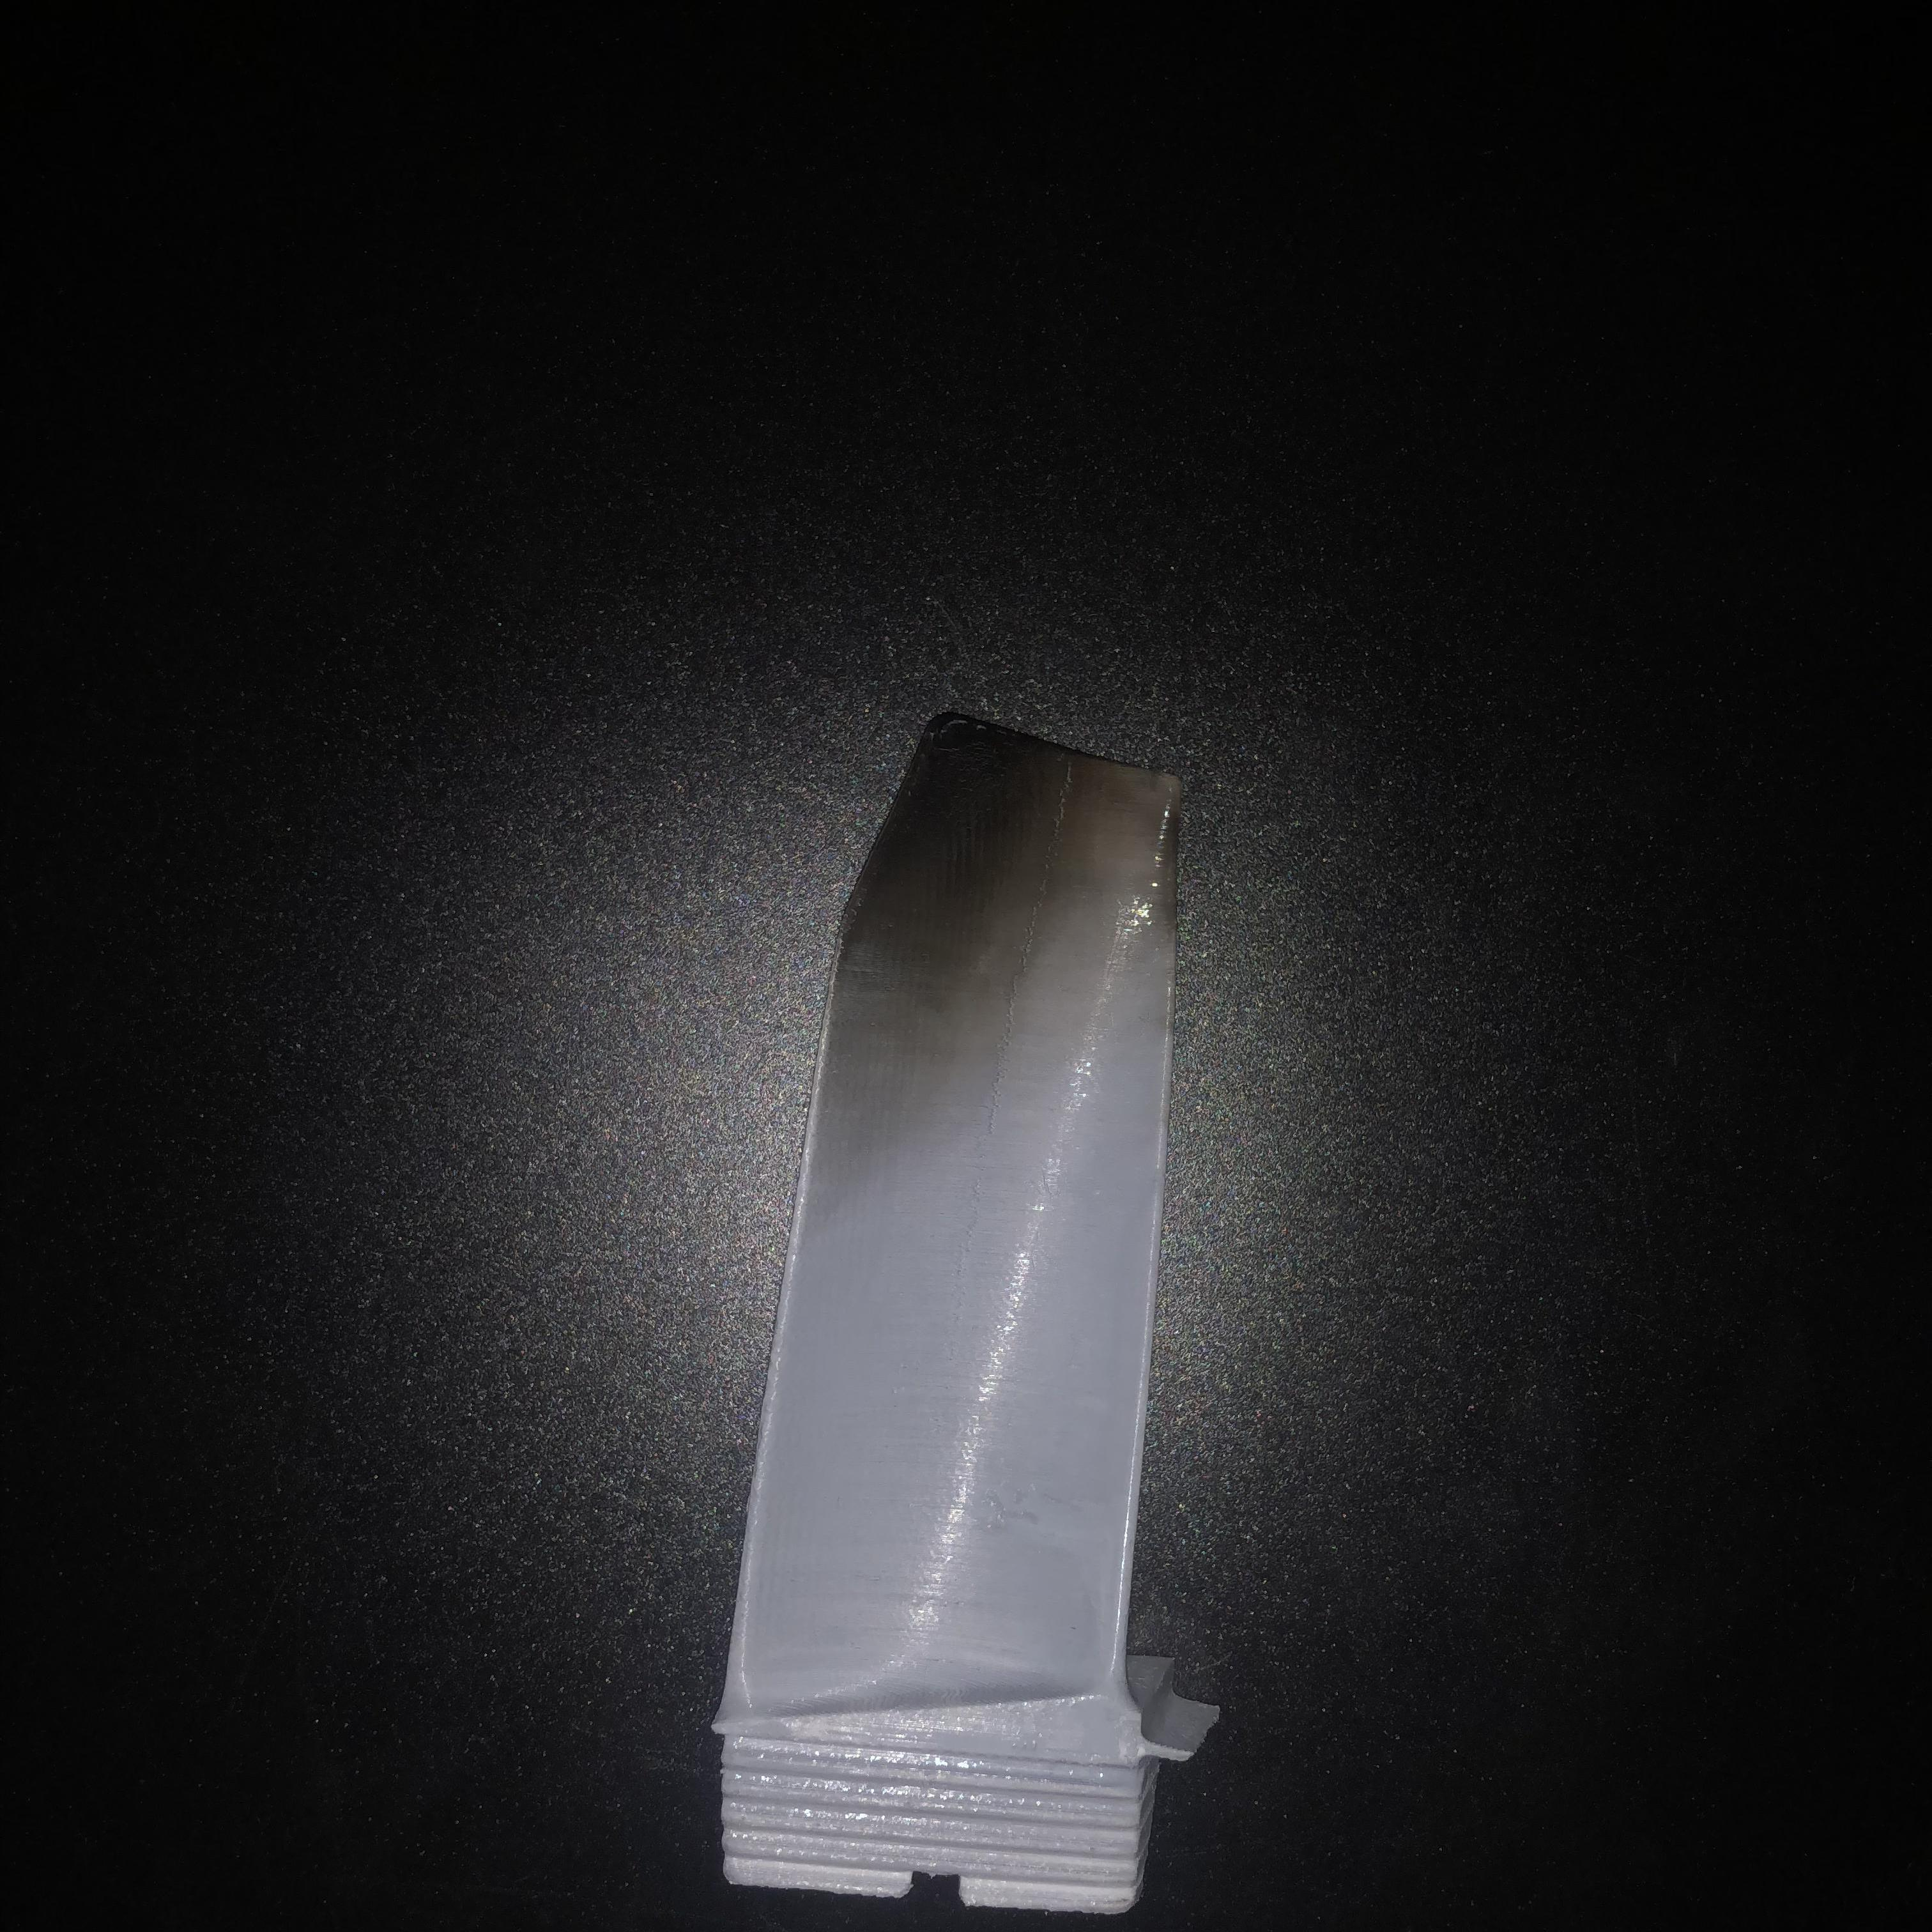ablation: (856, 750, 1161, 1042)
